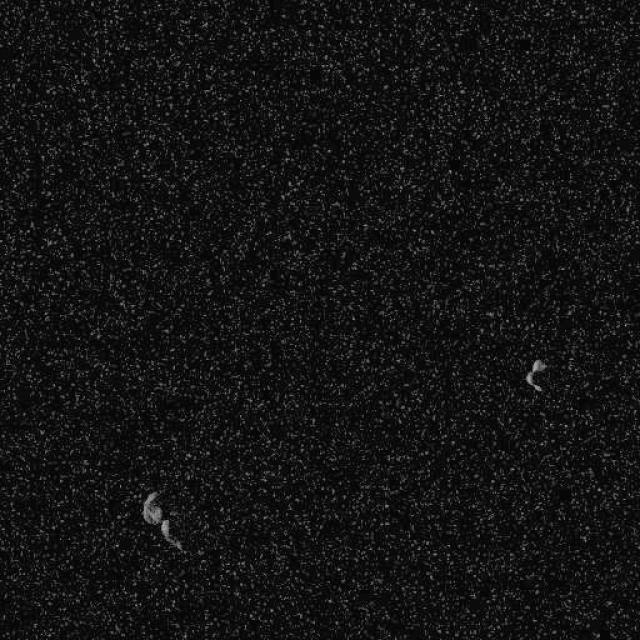D2: (140, 488, 184, 552), (524, 358, 546, 392)
